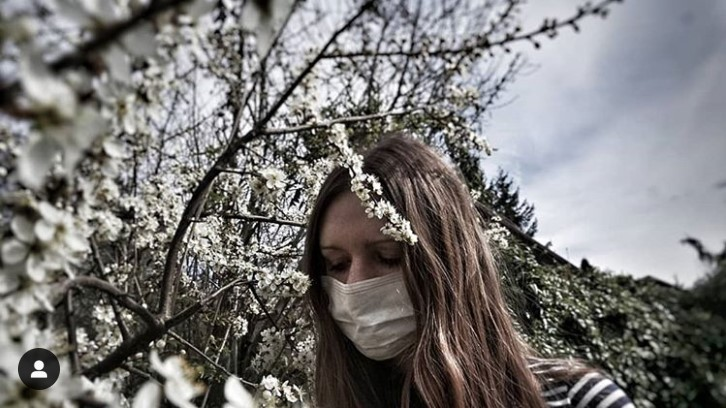face_with_mask: (315, 153, 441, 363)
